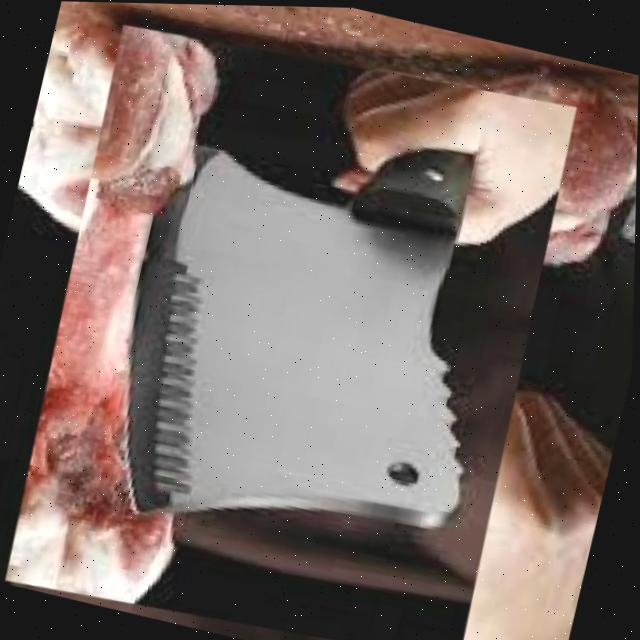knife: (84, 79, 542, 592)
